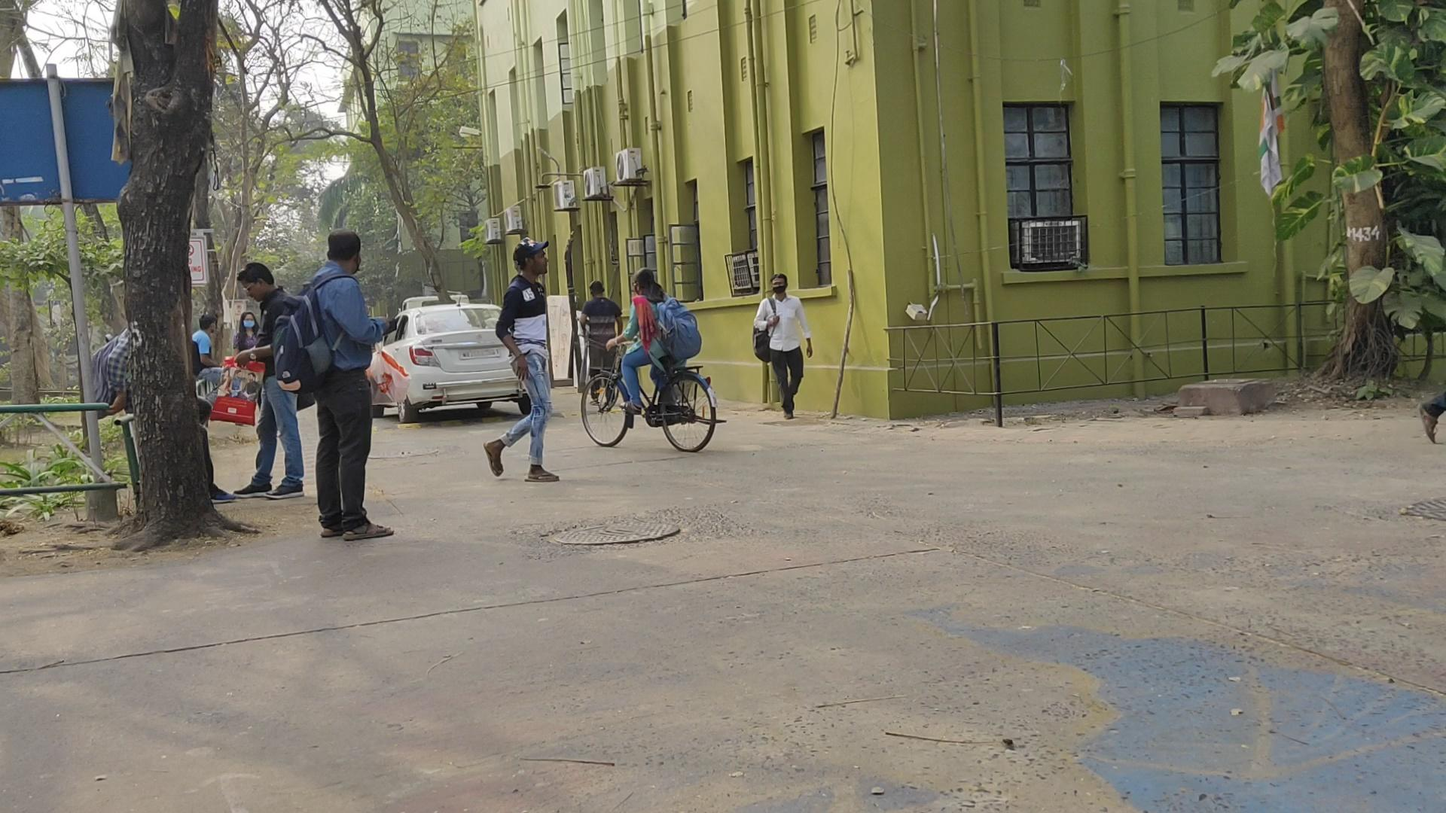bike: (582, 268, 727, 453)
car: (369, 305, 548, 421)
